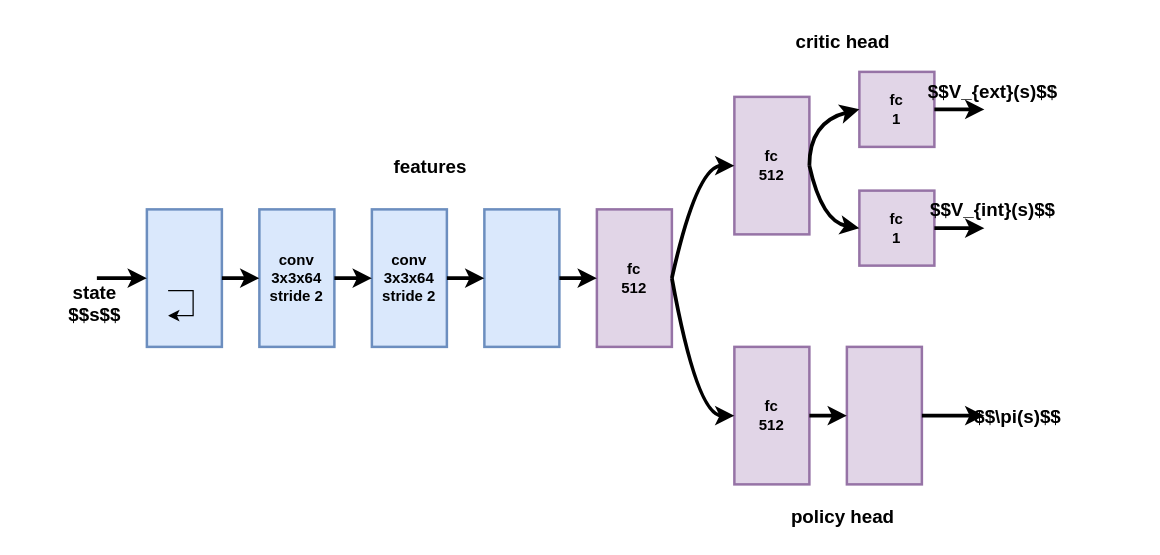
The diagram is 1160 pixels wide and 555 high, and some of its shapes have lost their labels. Each missing label, with the centre of its shape:
"conv 3x3x128 stride 1" goes at (521,278).
"conv 3x3x32 stride 2" goes at (183,278).
"fc 18" goes at (883,415).
